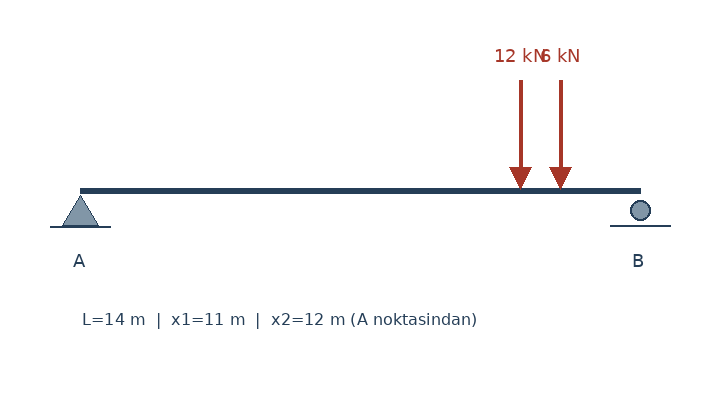pin_support: (61, 190, 99, 226)
point_load: (506, 76, 534, 190), (546, 76, 574, 190)
roller_support: (625, 196, 655, 227)
